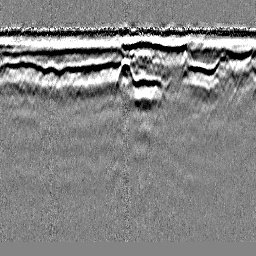cavity: (114, 54, 136, 87)
